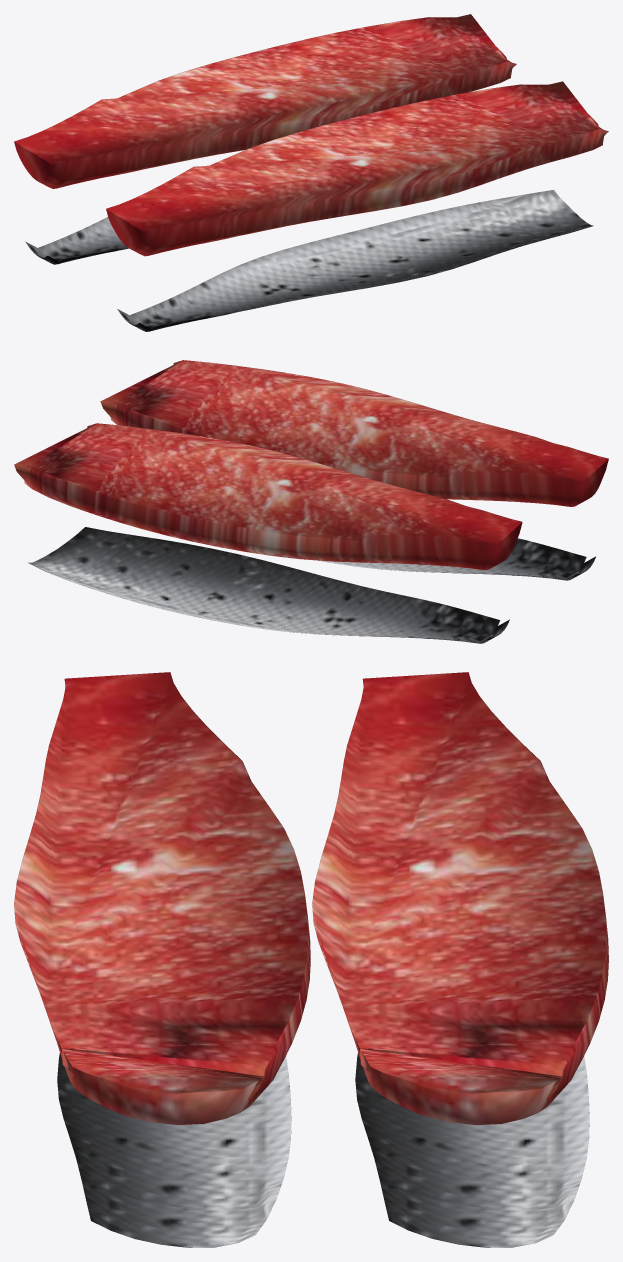
3 renders of one model, top to bottom at view 1: azimuth 30°, elevation 25°; view 2: azimuth 150°, elevation 25°; view 3: azimuth 270°, elevation 25°, orthographic. The views are drawn at different scales.
Parts seen in each view (by area): view 1: prototype.024; view 2: prototype.024; view 3: prototype.024.
Boxes of the visible parts, x1,y1,x2,y2 form: prototype.024: [14, 14, 608, 331]; prototype.024: [14, 360, 608, 643]; prototype.024: [14, 672, 608, 1247].
Size of the model in its own units: 504 by 126 by 329.
